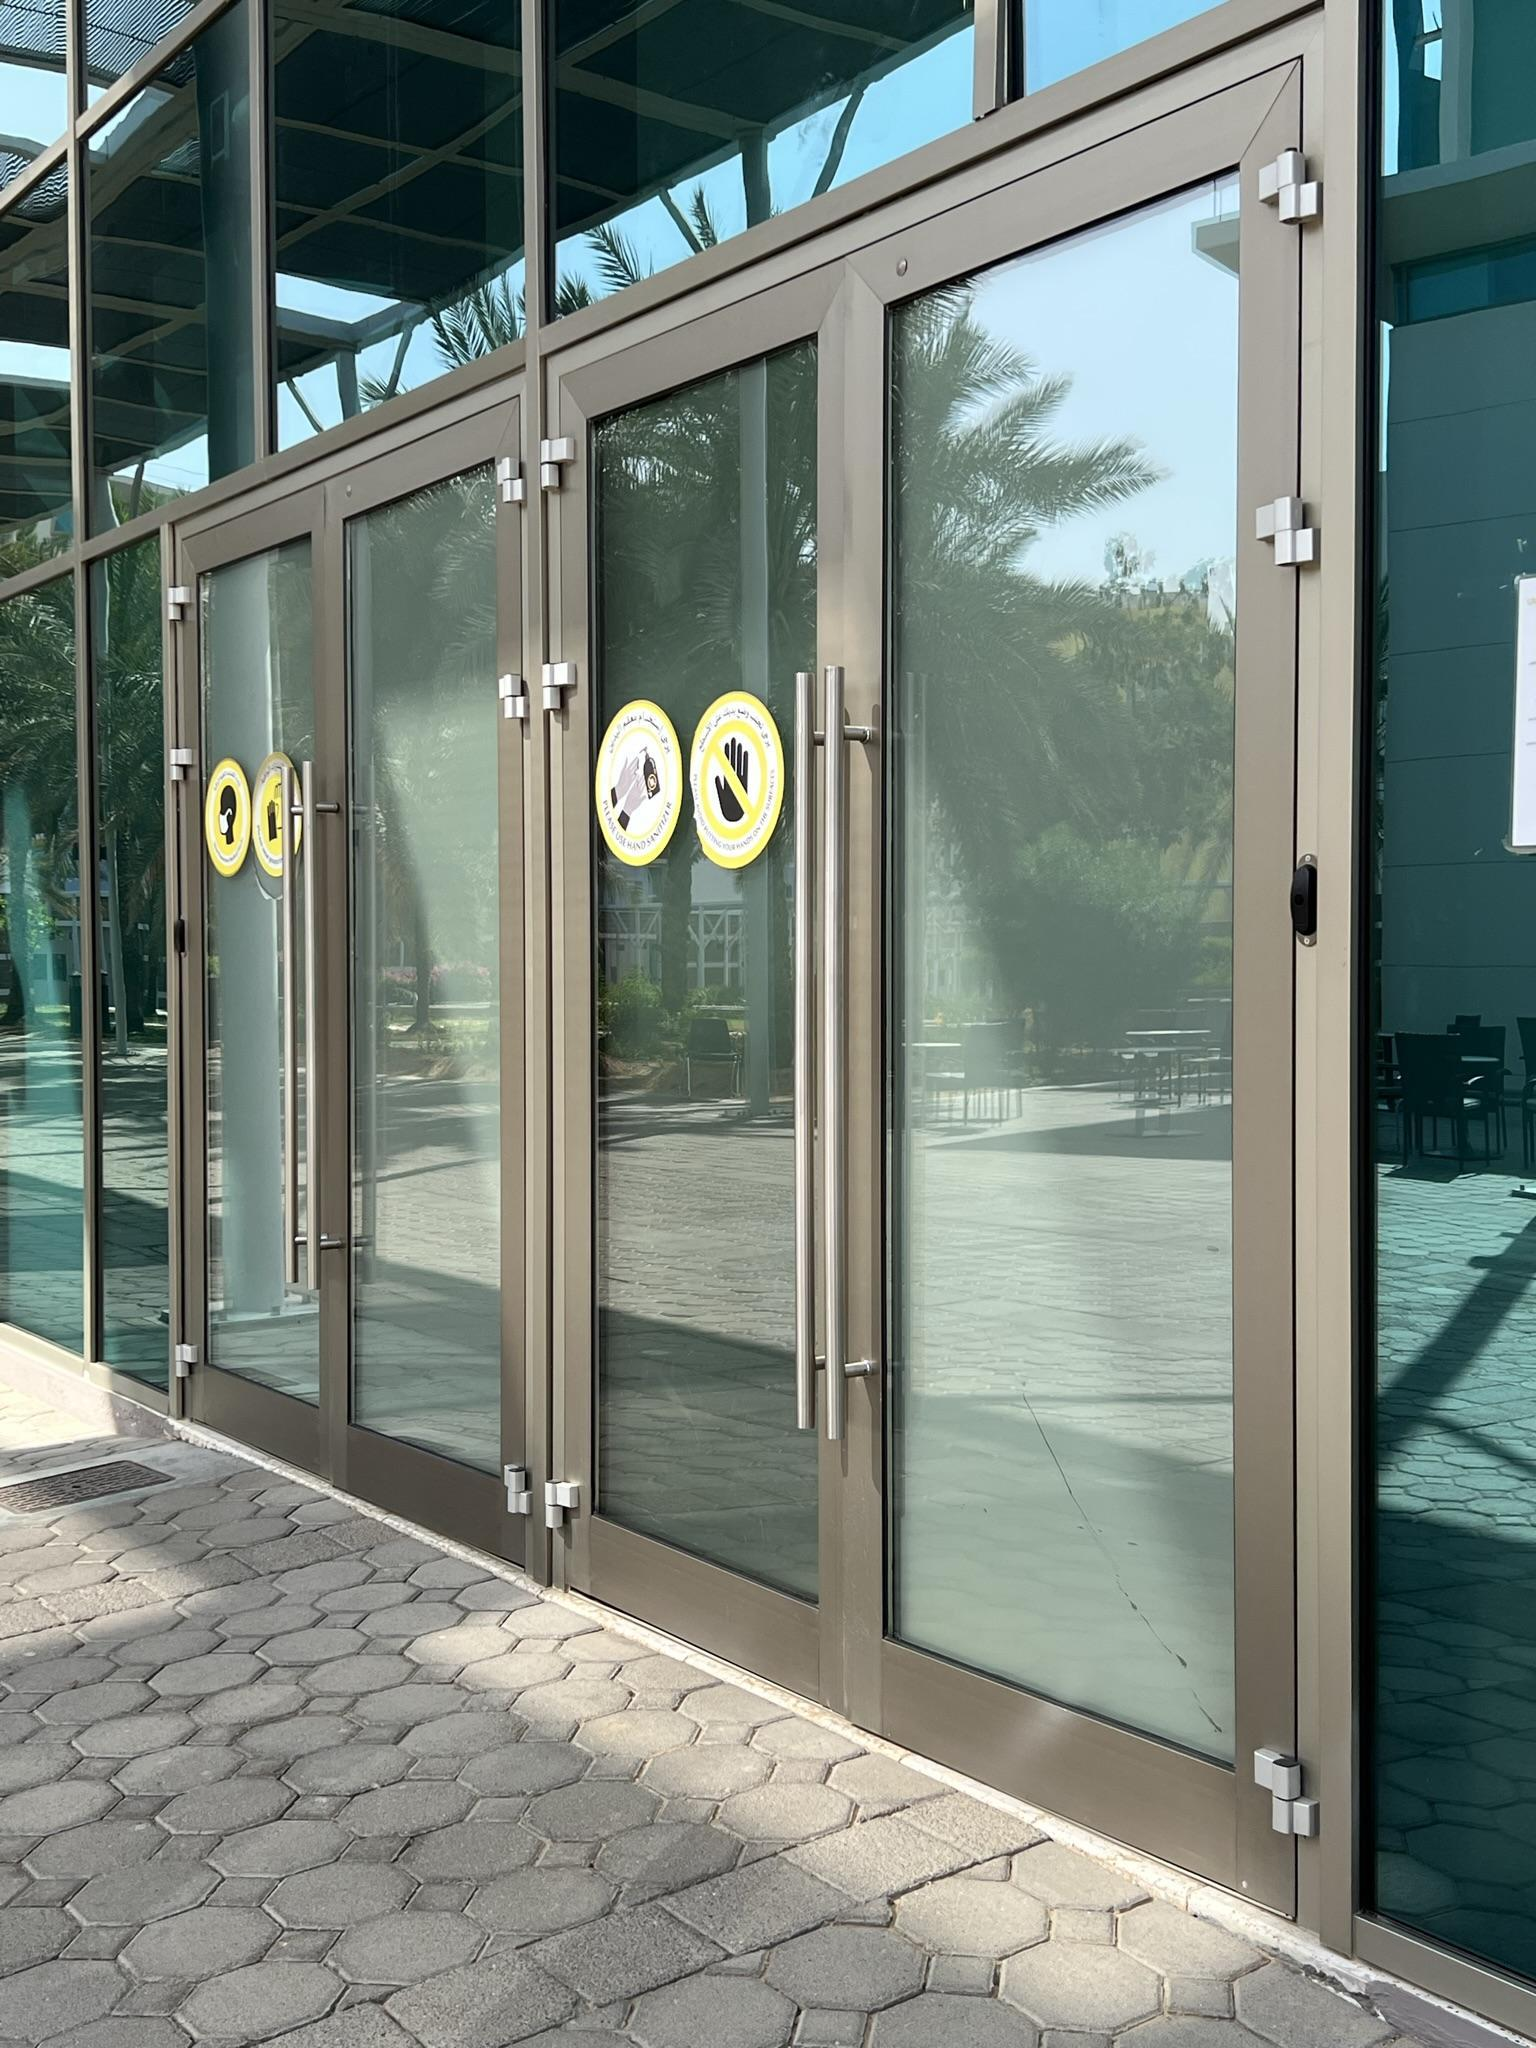door: (857, 236, 1333, 1826), (557, 356, 885, 1674), (322, 441, 561, 1550), (172, 511, 329, 1466)
handle: (820, 663, 886, 1442), (790, 660, 829, 1436), (298, 758, 353, 1292), (272, 757, 307, 1289)
